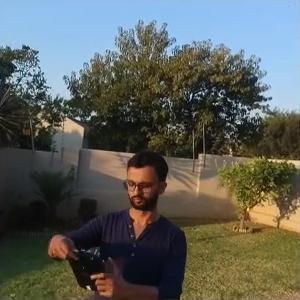follow: (42, 144, 191, 299)
